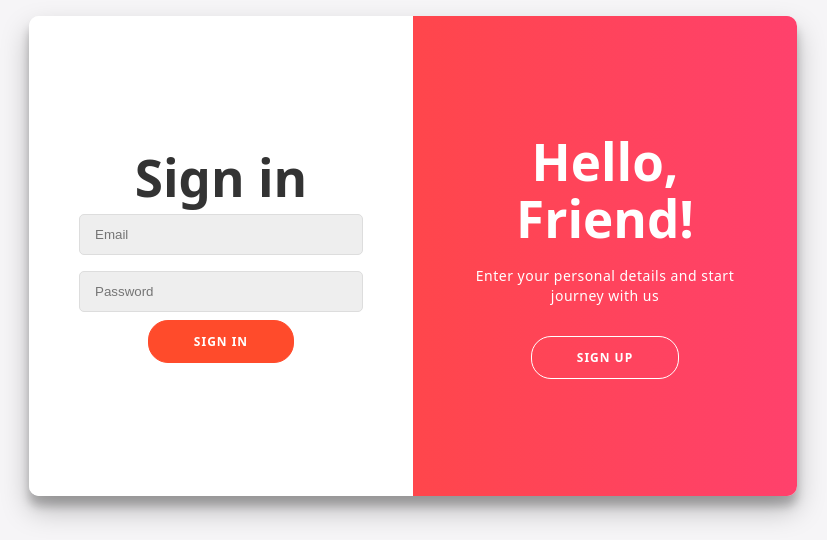
Scenario: Login Page › should show validation for empty password
Type "test@example.com" into the field with test id "login-email" at (221, 235), box [79, 214, 363, 255]
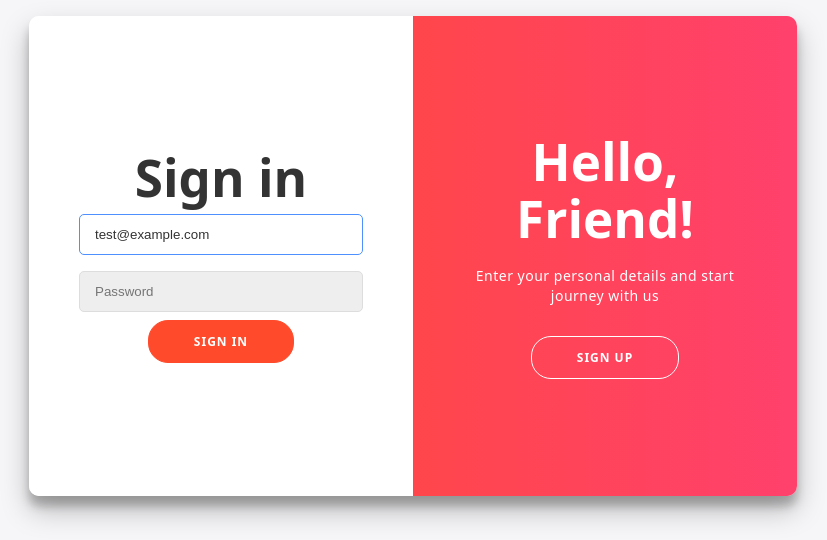
Click the button "Sign In" at (221, 342), box [148, 320, 294, 363]
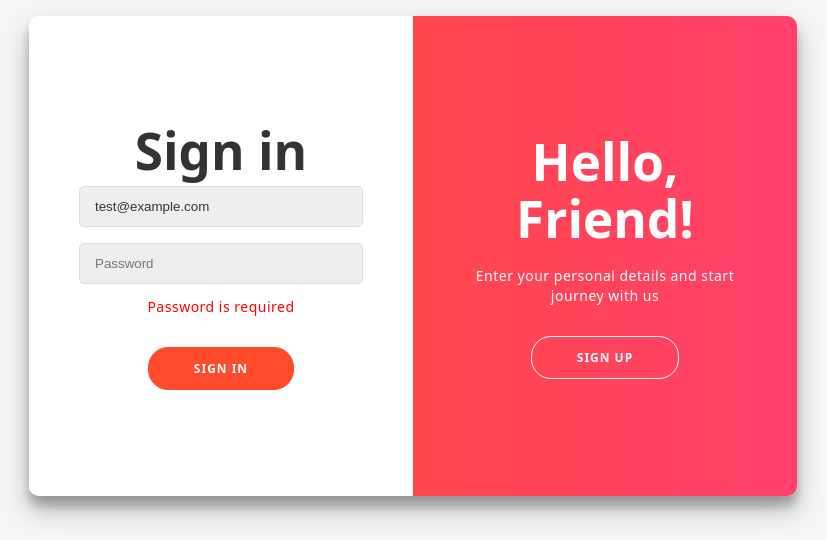
Expected: the text with test id "login-error" reads "Password is required", [147, 297, 294, 316]
